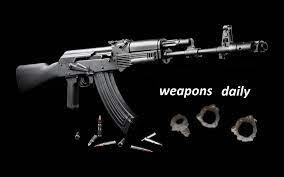larga: (16, 25, 269, 135)
